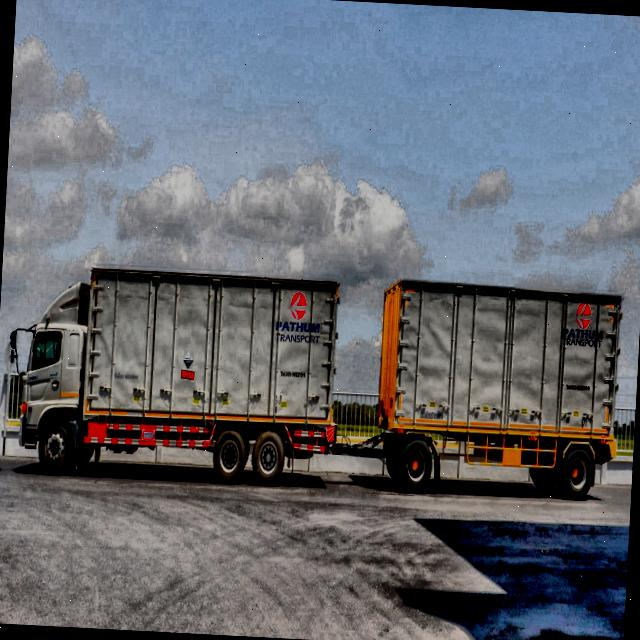trailer: (18, 266, 620, 501)
